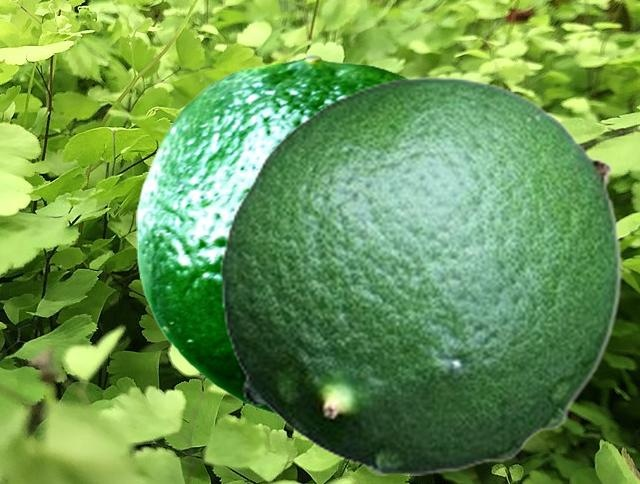calamansi: (220, 75, 621, 474), (136, 54, 409, 418)
